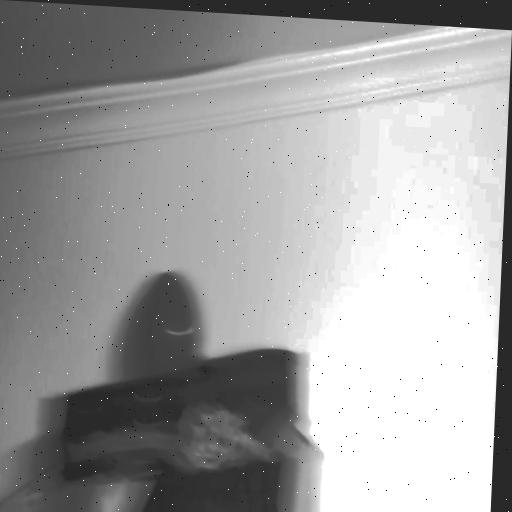balloon: (123, 247, 202, 377)
